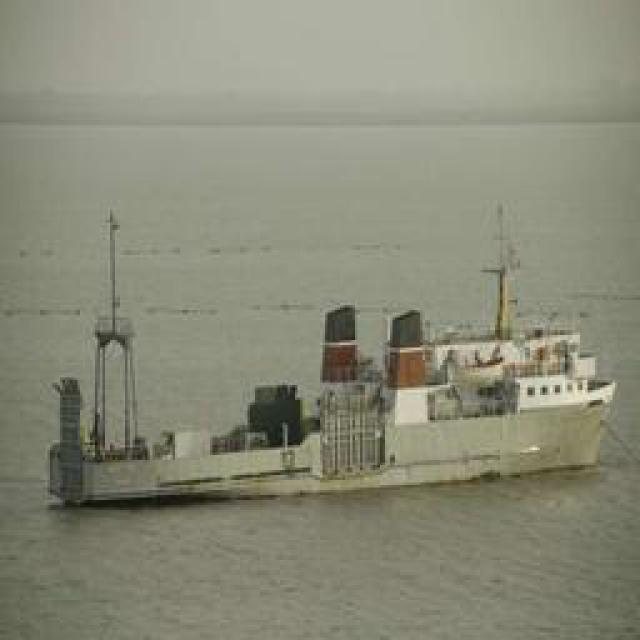Ship: (43, 286, 608, 506)
